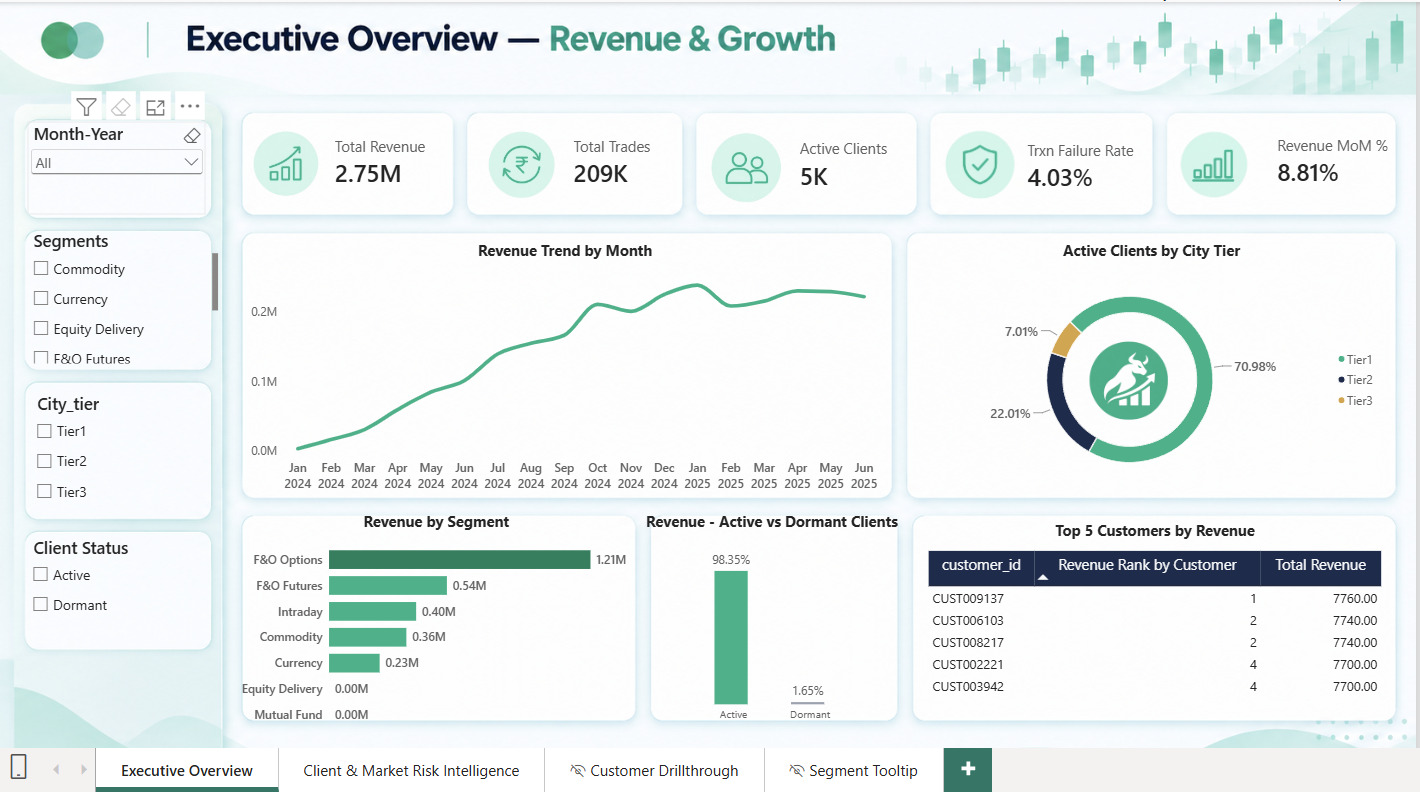

Layout of this report page (visuals, bound fields, positions):
{"tool":"powerbi","page":{"name":"Executive Overview","canvas":[1920,1080],"ordinal":0},"visuals":[{"type":"cardVisual","fields":{"Data":["Measures (2).Total Revenue"]},"box":[421.7,158.3,191.7,145],"z":0},{"type":"cardVisual","title":"Transaction Failure Rate","fields":{"Data":["Measures (2).Transaction Failure Rate"]},"box":[1361.7,180,233.3,111.7],"z":1000},{"type":"cardVisual","fields":{"Data":["Measures (2).Active Clients"]},"box":[1053.3,158.3,201.7,151.7],"z":2000},{"type":"cardVisual","fields":{"Data":["Measures (2).Total Trades"]},"box":[745,155,183.3,151.7],"z":3000},{"type":"lineChart","title":"Revenue Trend by Month","fields":{"Category":["Dim_Date.Month-Year"],"Y":["Measures (2).Total Revenue"]},"box":[323.3,318.3,885,375],"z":4000},{"type":"barChart","title":"Revenue by Segment","fields":{"Category":["Dim_Product.segment"],"Y":["Measures (2).Total Revenue"]},"box":[309.5,685.9,562.8,320.3],"z":5000},{"type":"donutChart","title":"Active Clients by City Tier","fields":{"Category":["Dim_Customer.city_tier"],"Y":["Measures (2).Active Clients"]},"box":[1235,318.3,651.7,366.7],"z":6000},{"type":"slicer","fields":{"Values":["Dim_Date.Month-Year"]},"box":[38,173.7,242.5,126.7],"z":7000},{"type":"slicer","fields":{"Values":["Dim_Product.segment"]},"box":[38,318.5,258.8,182.8],"z":8000},{"type":"slicer","fields":{"Values":["Dim_Customer.city_tier"]},"box":[41.6,539.3,238.9,166.5],"z":9000},{"type":"tableEx","title":"Top 5 Customers by Revenue","fields":{"Values":["Dim_Customer.customer_id","Measures (2).Revenue Rank by Customer","Measures (2).Total Revenue"]},"box":[1242.9,699.1,647.4,307.5],"z":10000},{"type":"columnChart","title":"Revenue - Active vs Dormant Clients","fields":{"Category":["Dim_Customer.Client Status"],"Y":["Measures (2).Revenue Share %"]},"box":[859.6,685.9,374.6,320.3],"z":11000},{"type":"cardVisual","fields":{"Data":["Measures (2).Revenue MoM %"]},"box":[1700,156.7,220,145],"z":12000},{"type":"slicer","fields":{"Values":["Dim_Customer.Client Status"]},"box":[38,734.7,258.8,159.3],"z":13000},{"type":"image","box":[310,176.7,150,110],"z":14000},{"type":"image","box":[633.3,176.7,146.7,113.3],"z":15000},{"type":"image","box":[928.3,178.3,175,118.3],"z":16000},{"type":"image","box":[1241.7,173.3,170,120],"z":17000},{"type":"image","box":[1566.7,175,168.3,116.7],"z":18000},{"type":"image","box":[1423.3,451.7,213.3,146.7],"z":19000}]}

Visuals, with their boxes on the page's 1920x1080 design canvas (x1, y1, x2, y2). These are canvas units, not pixel positions in the 1420x792 screenshot, which may show the page scaled, cropped or inside an application window:
cardVisual - Measures (2).Total Revenue: left=422, top=158, right=613, bottom=303
"Transaction Failure Rate" cardVisual: left=1362, top=180, right=1595, bottom=292
cardVisual - Measures (2).Active Clients: left=1053, top=158, right=1255, bottom=310
cardVisual - Measures (2).Total Trades: left=745, top=155, right=928, bottom=307
"Revenue Trend by Month" lineChart: left=323, top=318, right=1208, bottom=693
"Revenue by Segment" barChart: left=310, top=686, right=872, bottom=1006
"Active Clients by City Tier" donutChart: left=1235, top=318, right=1887, bottom=685
slicer - Dim_Date.Month-Year: left=38, top=174, right=280, bottom=300
slicer - Dim_Product.segment: left=38, top=318, right=297, bottom=501
slicer - Dim_Customer.city_tier: left=42, top=539, right=280, bottom=706
"Top 5 Customers by Revenue" tableEx: left=1243, top=699, right=1890, bottom=1007
"Revenue - Active vs Dormant Clients" columnChart: left=860, top=686, right=1234, bottom=1006
cardVisual - Measures (2).Revenue MoM %: left=1700, top=157, right=1920, bottom=302
slicer - Dim_Customer.Client Status: left=38, top=735, right=297, bottom=894
image: left=310, top=177, right=460, bottom=287
image: left=633, top=177, right=780, bottom=290
image: left=928, top=178, right=1103, bottom=297
image: left=1242, top=173, right=1412, bottom=293
image: left=1567, top=175, right=1735, bottom=292
image: left=1423, top=452, right=1637, bottom=598
